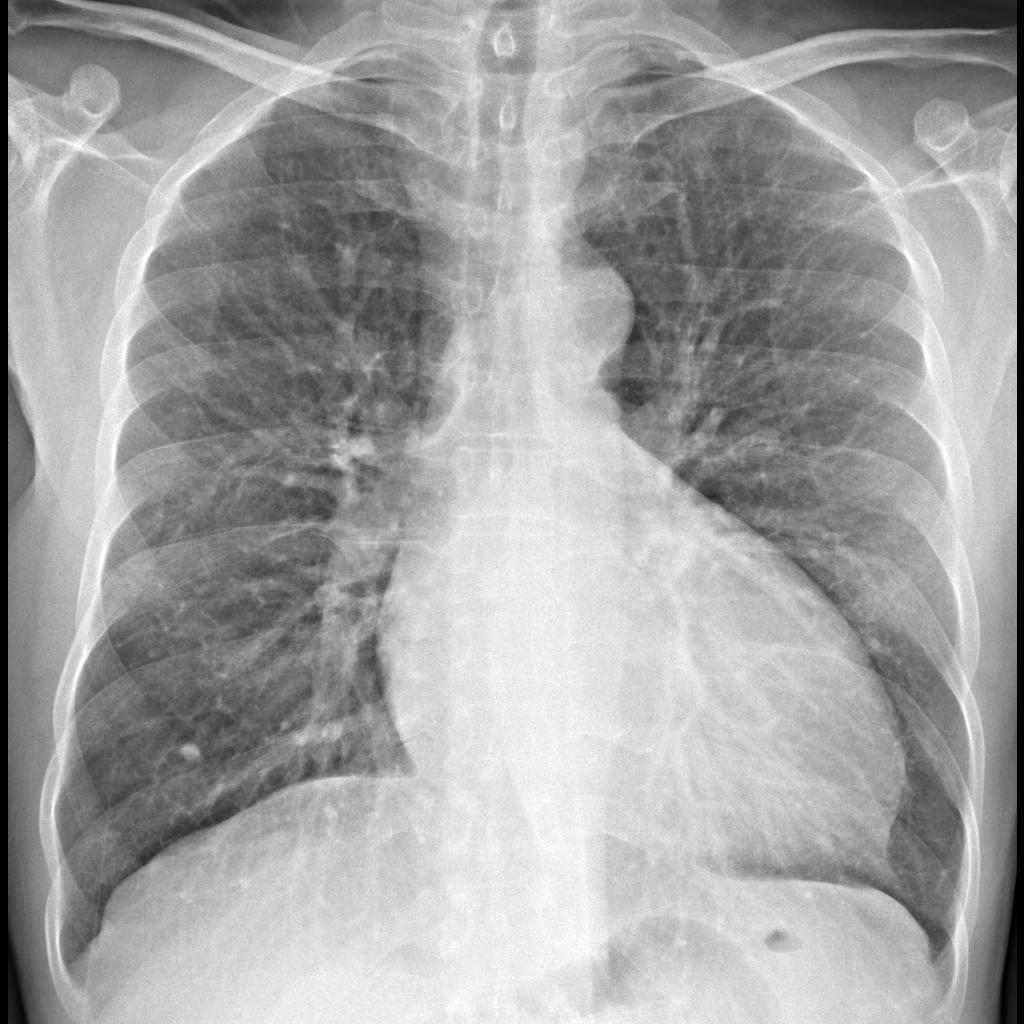Nodule: (177, 741, 201, 777)
